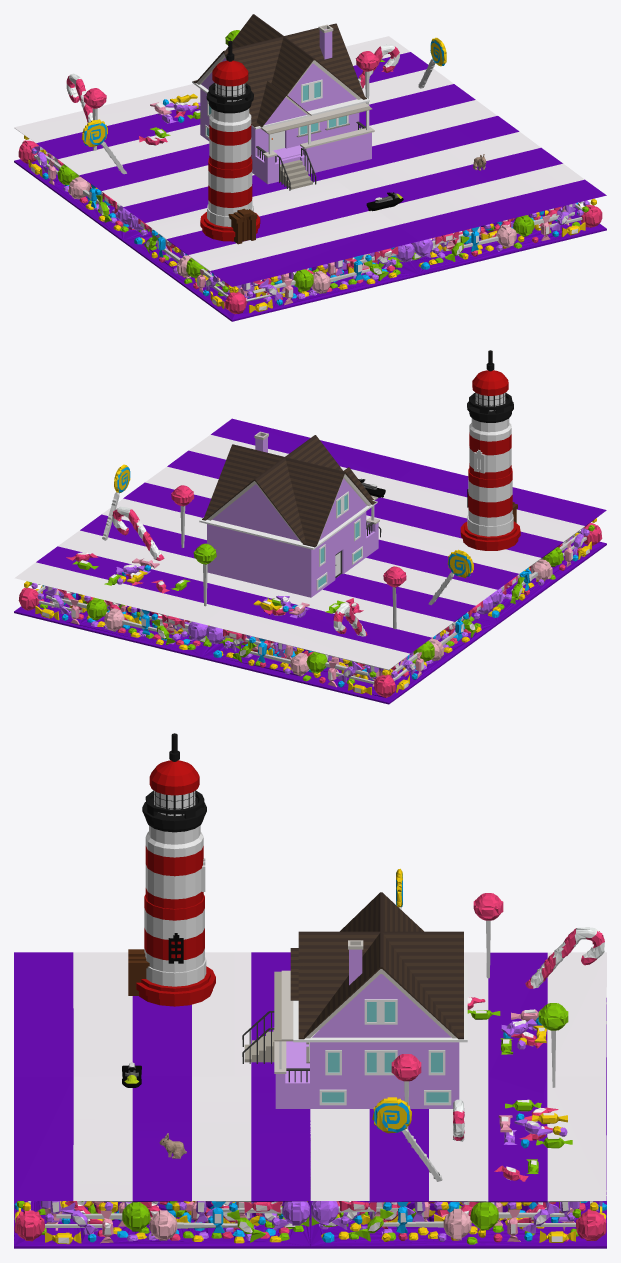
3 views of the same model, one above another, from view 1: azimuth 30°, elevation 25°; view 2: azimuth 150°, elevation 25°; view 3: azimuth 270°, elevation 25° (orthographic). The views are drawn at different scales.
Visible parts, largest first — view 1: TERRAIN_CANDY, Cube.391, OBJRANDOM_LIGHTHOUSE, VEHICLES_WATERBIKE; view 2: TERRAIN_CANDY, Cube.391, OBJRANDOM_LIGHTHOUSE; view 3: TERRAIN_CANDY, Cube.391, OBJRANDOM_LIGHTHOUSE.
Part boxes in pixels (bbox=[...]): TERRAIN_CANDY: bbox=[14, 30, 606, 321]; Cube.391: bbox=[192, 14, 374, 190]; OBJRANDOM_LIGHTHOUSE: bbox=[200, 40, 260, 244]; VEHICLES_WATERBIKE: bbox=[366, 192, 403, 211]; TERRAIN_CANDY: bbox=[14, 418, 606, 704]; Cube.391: bbox=[199, 431, 381, 597]; OBJRANDOM_LIGHTHOUSE: bbox=[460, 350, 520, 550]; TERRAIN_CANDY: bbox=[14, 868, 606, 1248]; Cube.391: bbox=[242, 892, 467, 1108]; OBJRANDOM_LIGHTHOUSE: bbox=[128, 733, 215, 1006].
Bounding box in the file's own units: 4059 × 2437 × 4000.
Materials: 29 (2 with a texture image).
